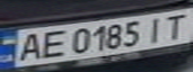0: (66, 25, 93, 55)
1: (90, 22, 112, 52)
5: (121, 18, 148, 47)
8: (103, 20, 127, 51)
A: (12, 30, 48, 63)
E: (36, 28, 69, 60)
I: (139, 15, 172, 43)
T: (157, 11, 193, 39)
